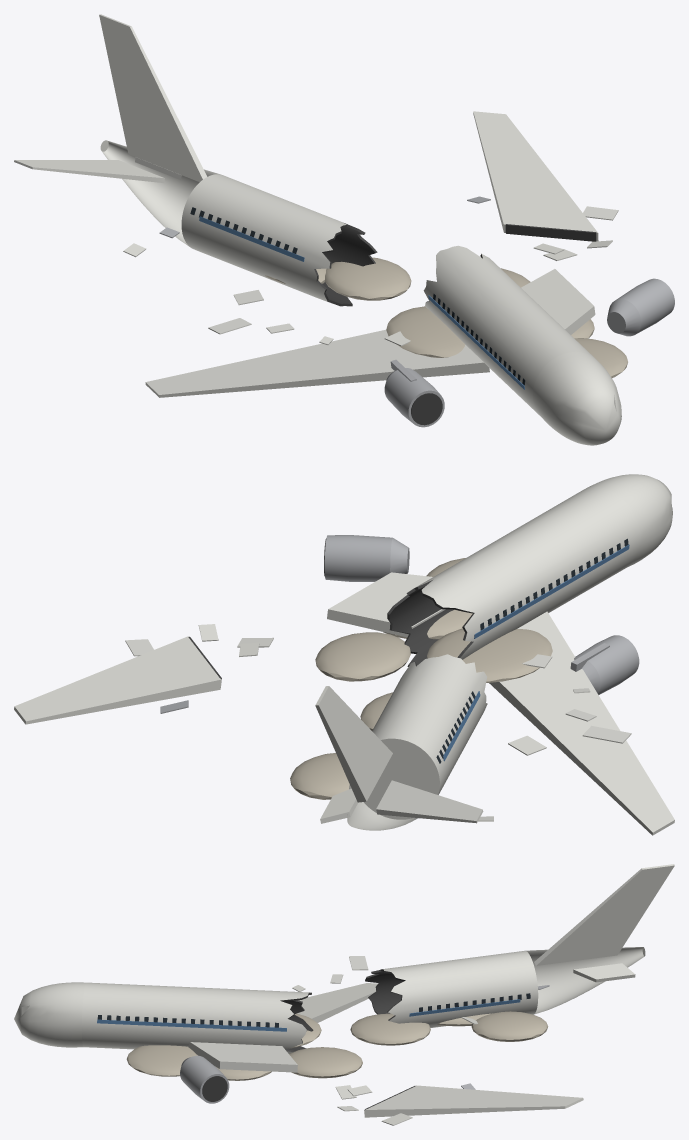
The model's file is AircraftWreck.glb.
3 views of the same model, one above another, from view 1: azimuth 30°, elevation 25°; view 2: azimuth 150°, elevation 25°; view 3: azimuth 270°, elevation 25° (orthographic). The views are drawn at different scales.
Visible parts, largest first — view 1: AircraftWreck; view 2: AircraftWreck; view 3: AircraftWreck.
Boxes of the visible parts, <box> form: AircraftWreck: <box>14,14,674,445</box>; AircraftWreck: <box>14,474,674,835</box>; AircraftWreck: <box>14,864,674,1125</box>.
Bounding box in the file's own units: 26.15 × 11.17 × 38.8.
